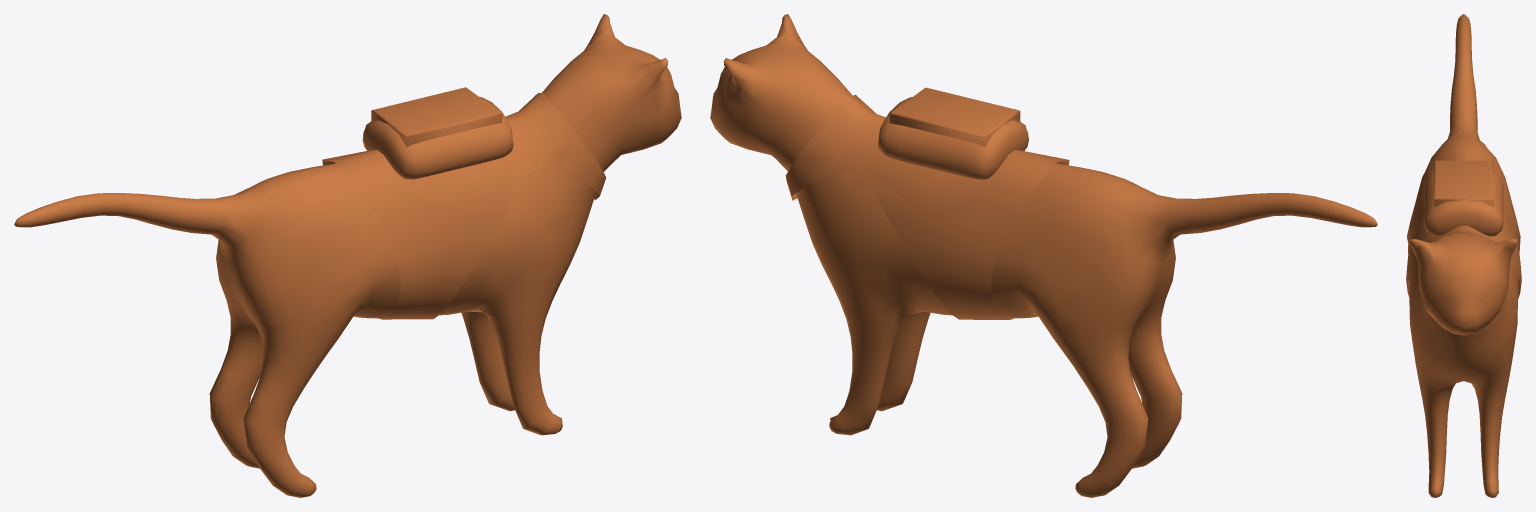
The model's file is Stray_low.fbx.
3 views of the same model, side by side, from view 1: azimuth 30°, elevation 25°; view 2: azimuth 150°, elevation 25°; view 3: azimuth 270°, elevation 25° (orthographic). The views are drawn at different scales.
Parts seen in each view (by area): view 1: Cat_Stray_low; view 2: Cat_Stray_low; view 3: Cat_Stray_low.
Part boxes in pixels (x1,y1,x2,y2): Cat_Stray_low: (14,14,681,497); Cat_Stray_low: (710,14,1377,497); Cat_Stray_low: (1406,14,1521,497).
Bounding box in the file's own units: 619 × 319 × 112.
